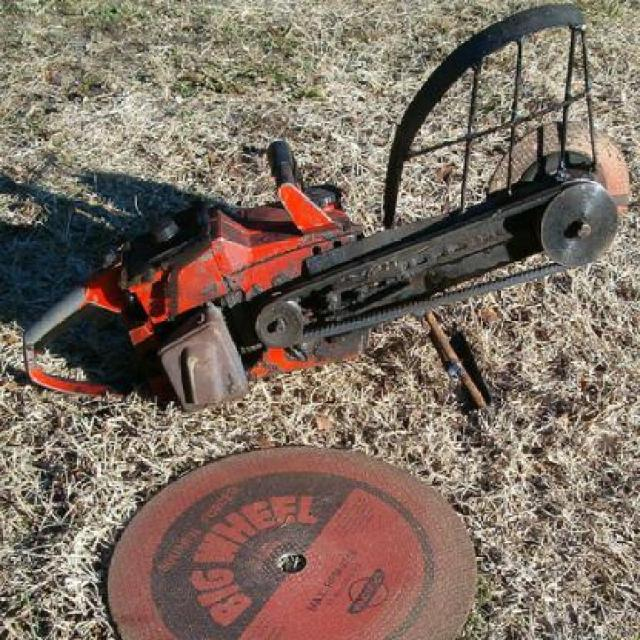Chainsaw: (4, 6, 638, 432)
